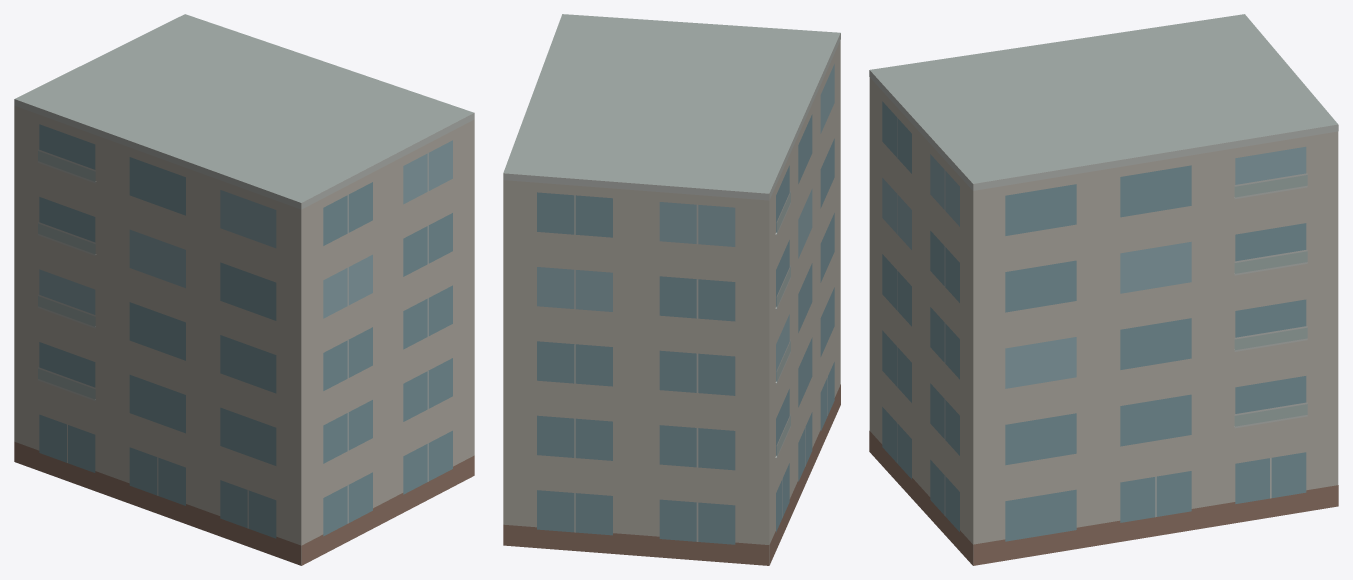
The model's file is survey-upis-32857768.glb.
3 views of the same model, side by side, from view 1: azimuth 30°, elevation 25°; view 2: azimuth 150°, elevation 25°; view 3: azimuth 270°, elevation 25° (orthographic). The views are drawn at different scales.
Visible parts, largest first — view 1: survey-upis-32857768.tmp; view 2: survey-upis-32857768.tmp; view 3: survey-upis-32857768.tmp.
Boxes of the visible parts, x1,y1,x2,y2 form: survey-upis-32857768.tmp: (14,14,474,565); survey-upis-32857768.tmp: (503,14,840,565); survey-upis-32857768.tmp: (869,14,1338,565).
Size of the model in its own units: 12.8 by 13.4 by 14.92.
